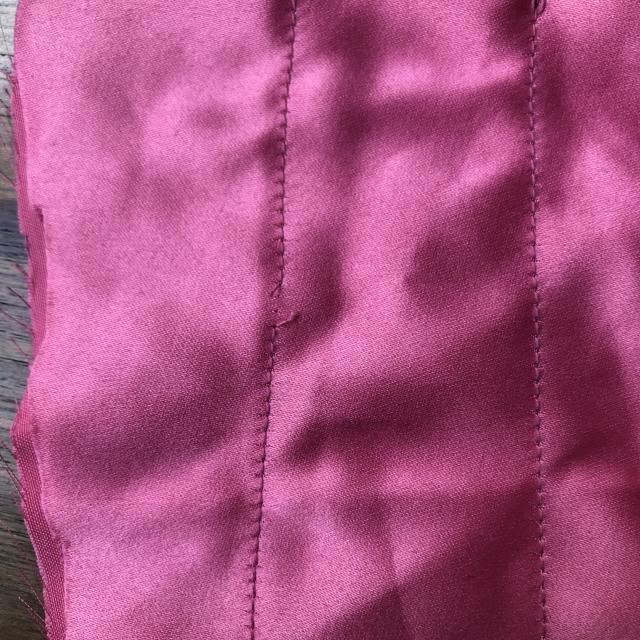broken: (252, 262, 312, 347)
